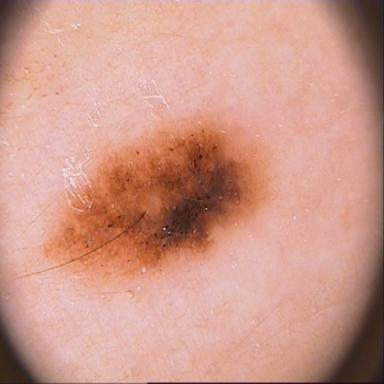nevus: (46, 123, 263, 272)
